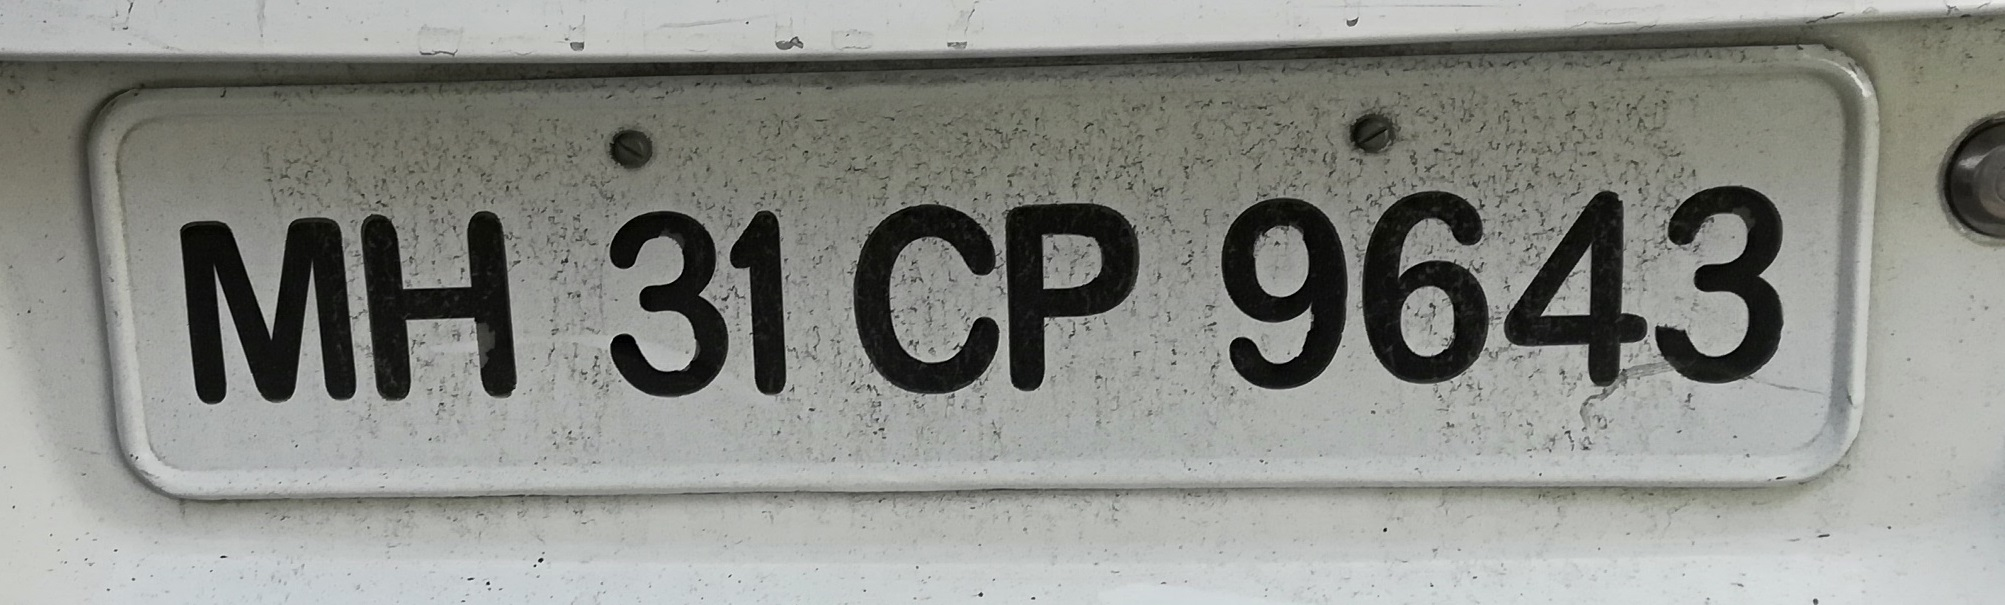numberplate: (65, 45, 1876, 505)
